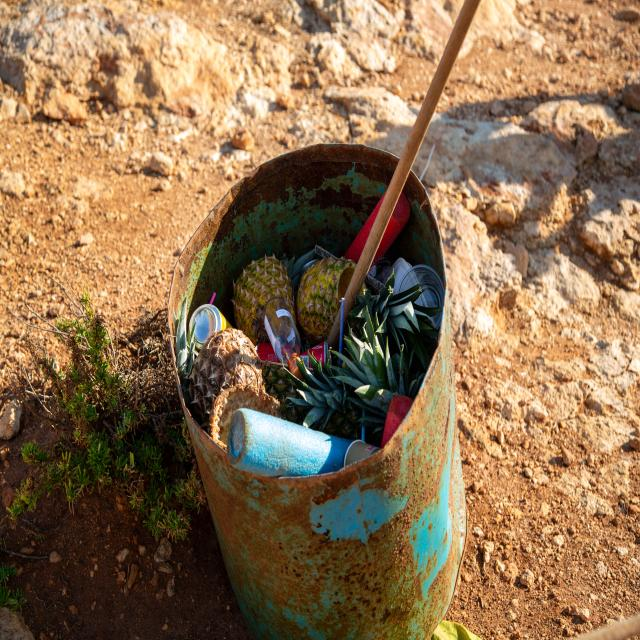Bottle: (262, 297, 305, 379)
Can: (188, 303, 233, 349), (256, 341, 327, 367)
Other litter: (170, 272, 468, 640), (325, 0, 484, 348), (167, 142, 400, 330), (334, 311, 425, 437), (285, 352, 374, 437), (383, 169, 447, 285), (190, 326, 263, 419), (356, 285, 433, 363), (232, 256, 295, 345), (298, 256, 365, 335), (208, 384, 287, 444), (386, 256, 438, 333), (395, 261, 445, 334), (170, 302, 197, 383), (279, 247, 317, 297)
Other plastic: (226, 410, 354, 479), (343, 185, 411, 266), (381, 394, 415, 447)
Paper: (343, 439, 383, 467)
Straw: (338, 298, 345, 366), (361, 408, 366, 441), (208, 292, 216, 305)
